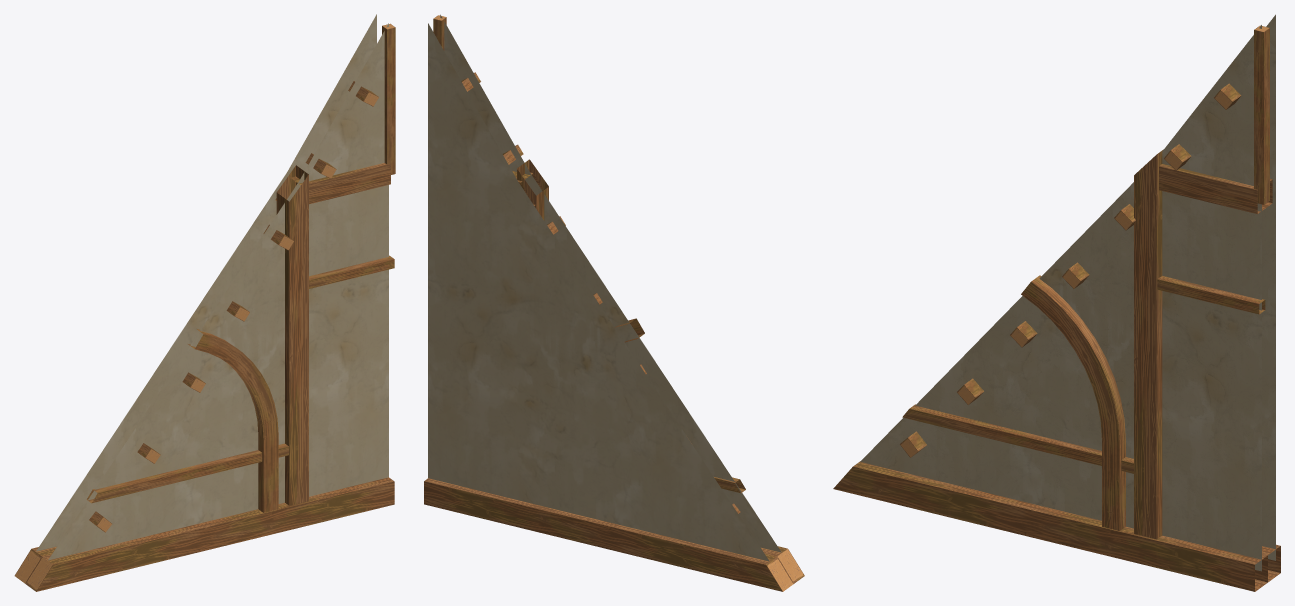
File: Roof_Front_Brick8_Half_L.gltf
The picture shows the model from 3 angles, left to right: view 1: azimuth 30°, elevation 25°; view 2: azimuth 150°, elevation 25°; view 3: azimuth 330°, elevation 25°; orthographic projection. The views are drawn at different scales.
Parts seen in each view (by area): view 1: Roof_Front_Brick8_Half_L; view 2: Roof_Front_Brick8_Half_L; view 3: Roof_Front_Brick8_Half_L.
Boxes of the visible parts, x1=… form: Roof_Front_Brick8_Half_L: x1=14, y1=14, x2=395, y2=591; Roof_Front_Brick8_Half_L: x1=424, y1=14, x2=804, y2=591; Roof_Front_Brick8_Half_L: x1=833, y1=14, x2=1280, y2=591.
Size of the model in its own units: 4.33 by 5.45 by 0.4896.
Materials: 2 (2 with a texture image).
